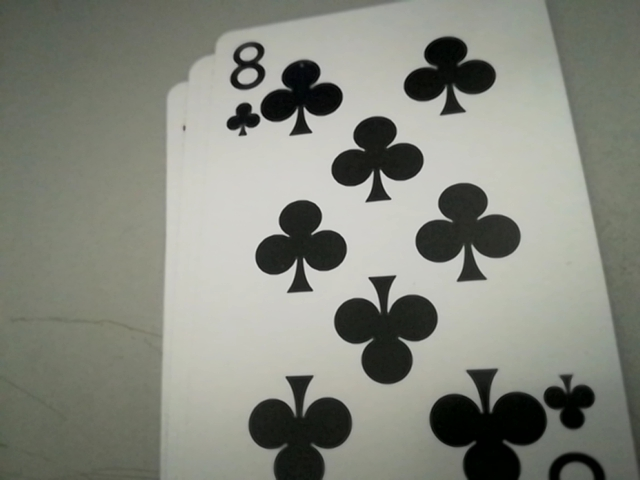mh 8: (211, 29, 263, 139)
